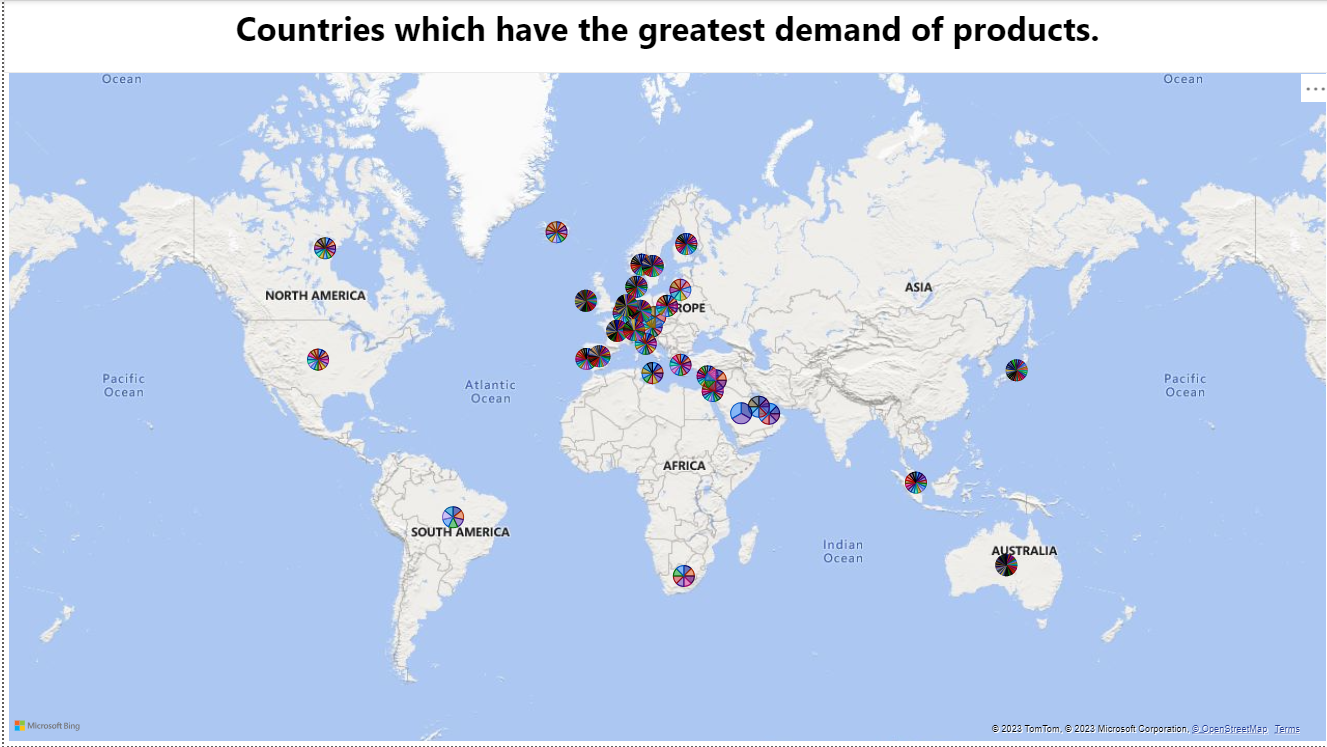

The page's visual inventory and layout, read from the dashboard file:
{"tool":"powerbi","page":{"name":"Q(4)","canvas":[1280,720],"ordinal":3},"visuals":[{"type":"map","fields":{"Category":["Online Retail (2).Country"],"Series":["Online Retail (2).Quantity"]},"box":[0,60.3,1280.6,659.5],"z":0},{"type":"textbox","box":[0,0,1280.6,69.9],"z":1}]}

Visuals, with their boxes in screenshot pixels (x1, y1, x2, y2), scaled from the page's 1280x720 canvas onto the 1327x747 screenshot:
map - Online Retail (2).Country x Online Retail (2).Quantity: locate(0, 63, 1326, 746)
textbox: locate(0, 0, 1326, 73)
